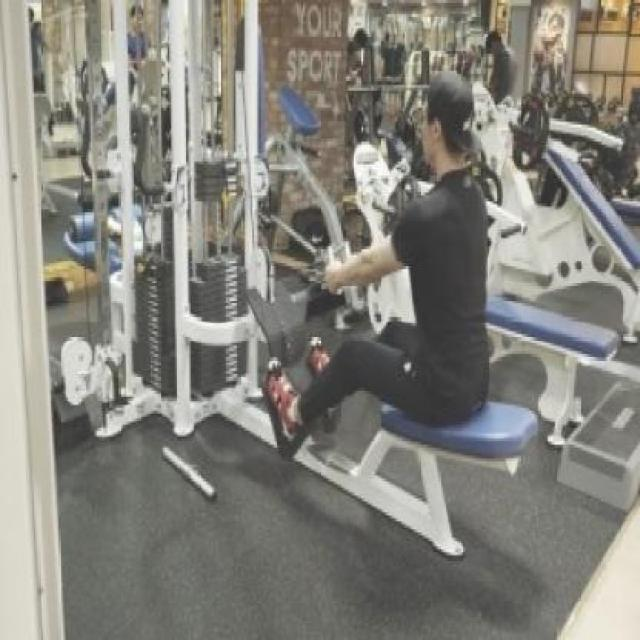Seated Cable Rows: (43, 12, 534, 640)
